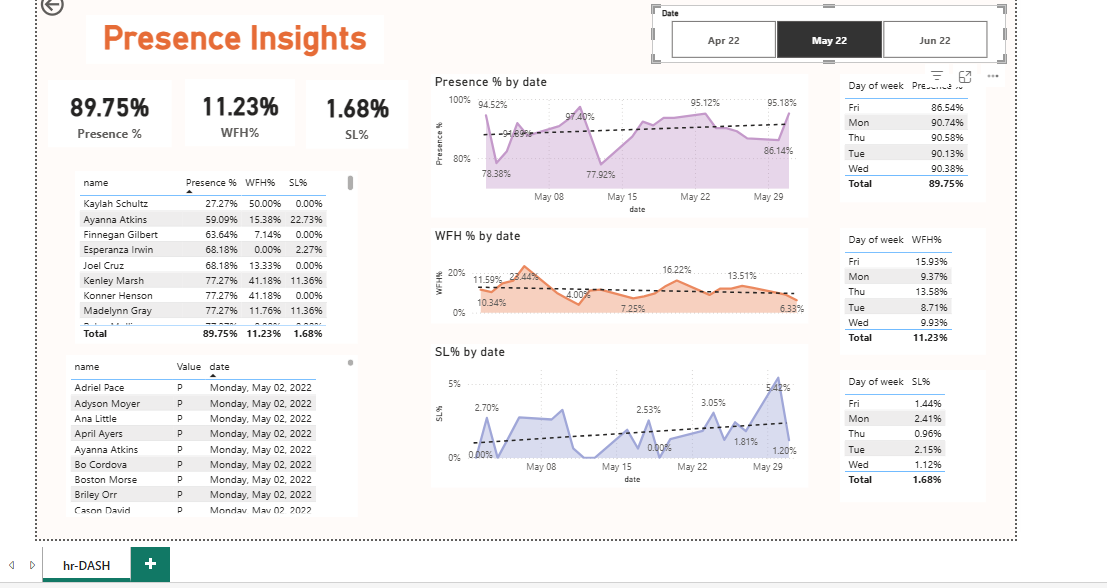

Layout of this report page (visuals, bound fields, positions):
{"tool":"powerbi","page":{"name":"hr-DASH","canvas":[1280,720],"ordinal":0},"visuals":[{"type":"card","fields":{"Values":["Measure Table.SL%"]},"box":[352.7,119,133.7,89.6],"z":0},{"type":"card","fields":{"Values":["Measure Table.Presence %"]},"box":[14.7,119,161.6,88.2],"z":1000},{"type":"slicer","fields":{"Values":["final data.month"]},"box":[805.2,20.6,462.9,76.4],"z":2000},{"type":"card","fields":{"Values":["Measure Table.WFH%"]},"box":[194,117.6,144,88.2],"z":3000},{"type":"tableEx","fields":{"Values":["final data.name","Measure Table.Presence %","Measure Table.WFH%","Measure Table.SL%"]},"box":[50,238,370.3,226.3],"z":4000},{"type":"textbox","box":[63.8,33.6,389.7,63.8],"z":5000},{"type":"actionButton","box":[0,0,100,40],"z":6000},{"type":"tableEx","fields":{"Values":["final data.name","final data.Value","final data.date"]},"box":[38.2,479,382,211.6],"z":7000},{"type":"areaChart","fields":{"Y":["Measure Table.Presence %"],"Category":["final data.date"]},"box":[515.8,111.7,493.7,188.1],"z":8000},{"type":"areaChart","title":"WFH % by date","fields":{"Category":["final data.date"],"Y":["Measure Table.WFH%"]},"box":[515.8,313,493.7,124.9],"z":9000},{"type":"areaChart","fields":{"Category":["final data.date"],"Y":["Measure Table.SL%"]},"box":[515.8,464.3,493.7,188.1],"z":10000},{"type":"tableEx","fields":{"Values":["final data.Day of week","Measure Table.Presence %"]},"box":[1050.6,111.7,191,167.5],"z":10001},{"type":"tableEx","fields":{"Values":["final data.Day of week","Measure Table.WFH%"]},"box":[1050.6,313,191,166],"z":10002},{"type":"tableEx","fields":{"Values":["final data.Day of week","Measure Table.SL%"]},"box":[1050.6,498.1,191,173.4],"z":10003}]}

Visuals, with their boxes on the page's 1280x720 design canvas (x1, y1, x2, y2). These are canvas units, not pixel positions in the 1107x588 screenshot, which may show the page scaled, cropped or inside an application window:
card - Measure Table.SL%: box(353, 119, 486, 209)
card - Measure Table.Presence %: box(15, 119, 176, 207)
slicer - final data.month: box(805, 21, 1268, 97)
card - Measure Table.WFH%: box(194, 118, 338, 206)
tableEx - final data.name x Measure Table.Presence %: box(50, 238, 420, 464)
textbox: box(64, 34, 454, 97)
actionButton: box(0, 0, 100, 40)
tableEx - final data.name x final data.Value: box(38, 479, 420, 691)
areaChart - Measure Table.Presence % x final data.date: box(516, 112, 1010, 300)
"WFH % by date" areaChart: box(516, 313, 1010, 438)
areaChart - final data.date x Measure Table.SL%: box(516, 464, 1010, 652)
tableEx - final data.Day of week x Measure Table.Presence %: box(1051, 112, 1242, 279)
tableEx - final data.Day of week x Measure Table.WFH%: box(1051, 313, 1242, 479)
tableEx - final data.Day of week x Measure Table.SL%: box(1051, 498, 1242, 672)
